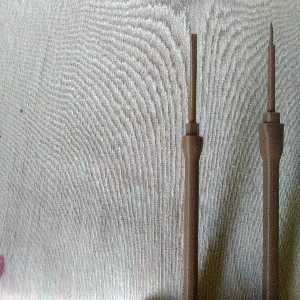obeng: (180, 32, 204, 300)
solder: (258, 20, 286, 300)
